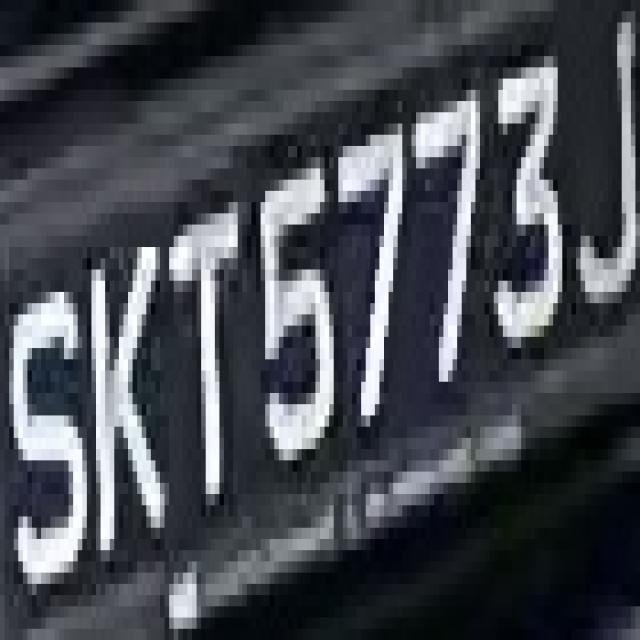3: (484, 33, 567, 370)
5: (252, 146, 338, 472)
7: (384, 67, 485, 438), (325, 101, 425, 472)
J: (4, 0, 5, 6)
K: (68, 191, 164, 595)
S: (9, 247, 82, 584)
T: (151, 202, 256, 539)
